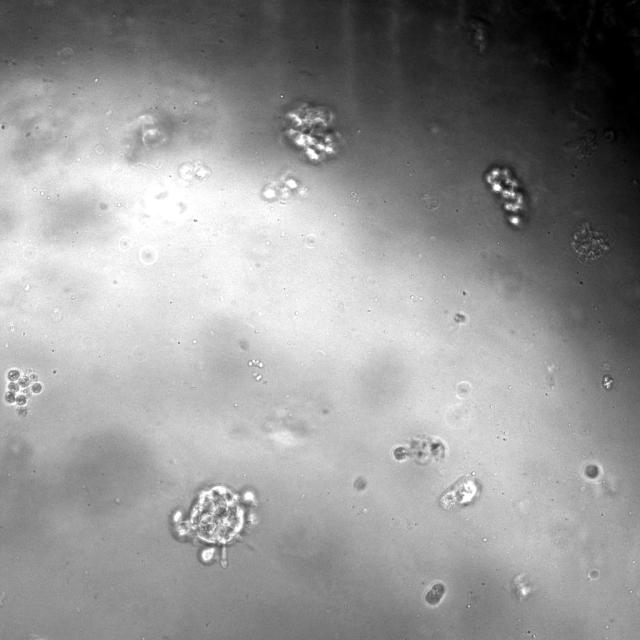organoid: (170, 485, 257, 567), (283, 103, 341, 163), (484, 166, 528, 229), (571, 220, 616, 265), (4, 369, 43, 416), (391, 435, 448, 464), (261, 168, 308, 203), (439, 476, 481, 509), (422, 581, 447, 609), (178, 161, 211, 182), (584, 464, 600, 479), (601, 373, 613, 390), (353, 476, 366, 491), (453, 311, 466, 324), (589, 569, 599, 579)
